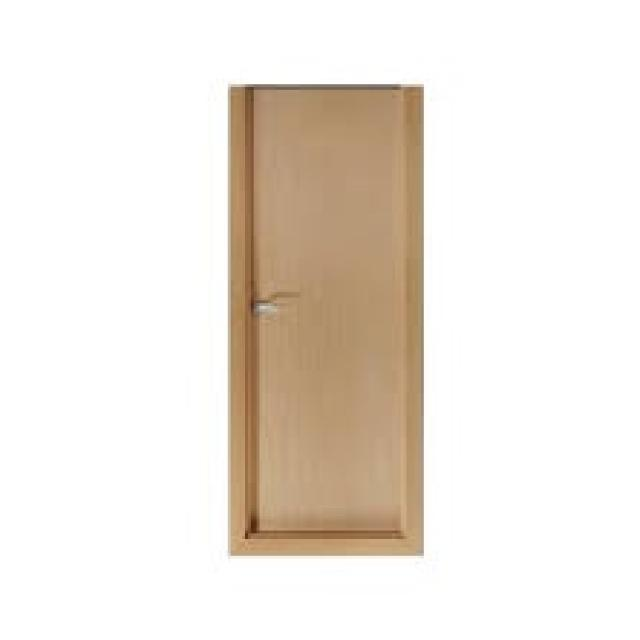door: (229, 86, 425, 557)
